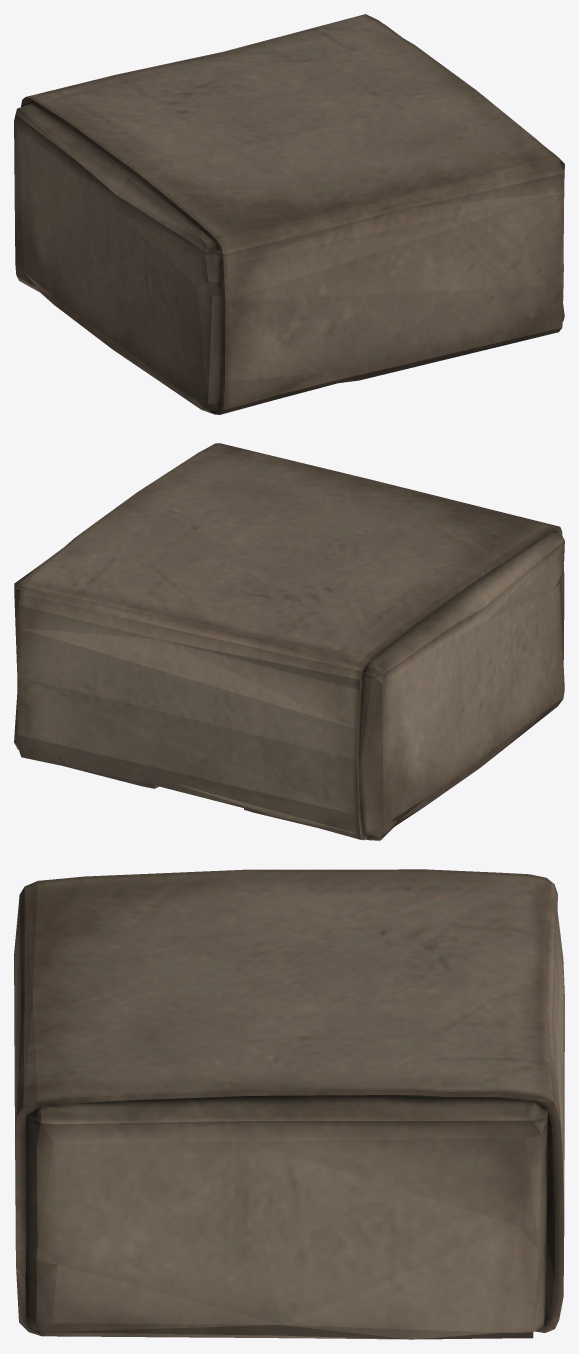
3 views of the same model, one above another, from view 1: azimuth 30°, elevation 25°; view 2: azimuth 150°, elevation 25°; view 3: azimuth 270°, elevation 25° (orthographic). The views are drawn at different scales.
Visible parts, largest first — view 1: TW_6570241bcfc010a0f50069f5_PZ_Import; view 2: TW_6570241bcfc010a0f50069f5_PZ_Import; view 3: TW_6570241bcfc010a0f50069f5_PZ_Import.
Part boxes in pixels (x1,y1,x2,y2): TW_6570241bcfc010a0f50069f5_PZ_Import: [14, 14, 564, 414]; TW_6570241bcfc010a0f50069f5_PZ_Import: [14, 443, 564, 840]; TW_6570241bcfc010a0f50069f5_PZ_Import: [14, 869, 564, 1339].
Size of the model in its own units: 0.0381 by 0.0367 by 0.0183.
1 material, 1 textured.
